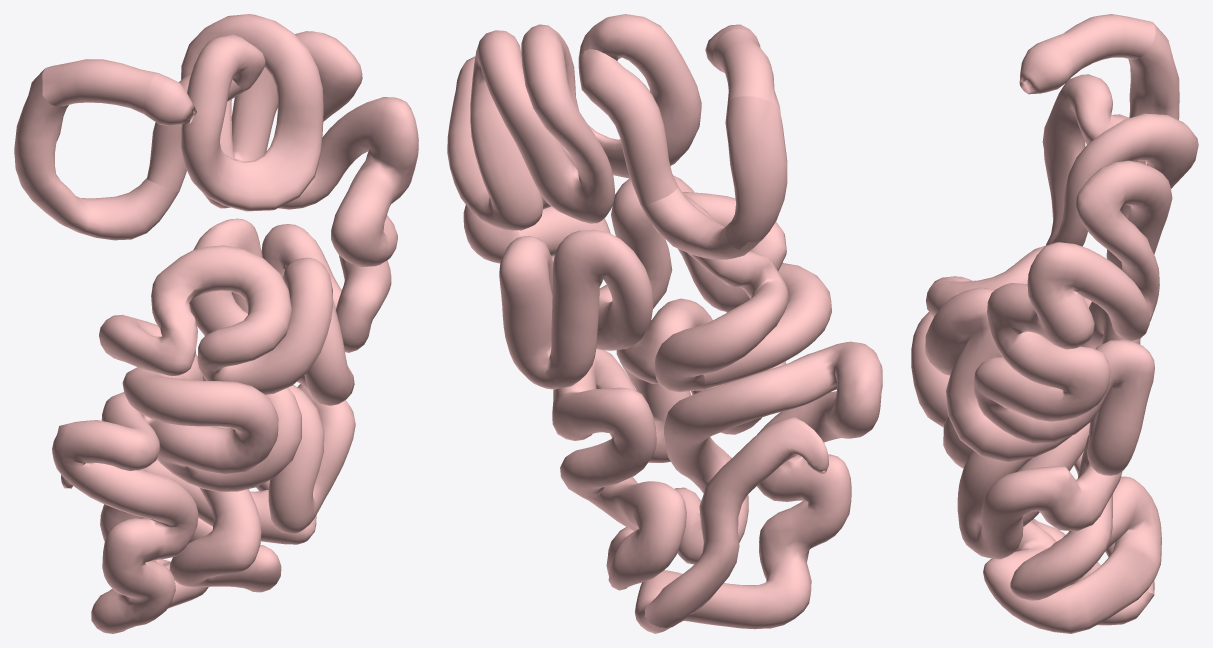
The model's file is intestine.glb.
3 views of the same model, side by side, from view 1: azimuth 30°, elevation 25°; view 2: azimuth 150°, elevation 25°; view 3: azimuth 270°, elevation 25° (orthographic). The views are drawn at different scales.
Visible parts, largest first — view 1: VH_M_jejunum, VH_M_ileum, VH_M_duodenum_horizonal, VH_M_duodenum_superior, VH_M_duodenum_descending, VH_M_duodenum_ascending, VH_M_duodenal_ampulla, VH_M_ileum_terminal; view 2: VH_M_jejunum, VH_M_ileum, VH_M_ileum_terminal, VH_M_duodenum_descending, VH_M_duodenum_ascending, VH_M_duodenum_horizonal, VH_M_duodenum_superior; view 3: VH_M_jejunum, VH_M_ileum, VH_M_duodenum_superior, VH_M_duodenum_descending, VH_M_duodenal_ampulla.
Boxes of the visible parts, left/top/right/bottom form: VH_M_jejunum: left=99, top=14, right=418, bottom=405; VH_M_ileum: left=52, top=367, right=355, bottom=633; VH_M_duodenum_horizonal: left=33, top=178, right=178, bottom=240; VH_M_duodenum_superior: left=42, top=59, right=157, bottom=113; VH_M_duodenum_descending: left=14, top=69, right=70, bottom=202; VH_M_duodenum_ascending: left=147, top=73, right=246, bottom=191; VH_M_duodenal_ampulla: left=143, top=73, right=196, bottom=125; VH_M_ileum_terminal: left=61, top=469, right=157, bottom=561; VH_M_jejunum: left=447, top=14, right=788, bottom=392; VH_M_ileum: left=552, top=263, right=882, bottom=633; VH_M_ileum_terminal: left=644, top=417, right=828, bottom=627; VH_M_duodenum_descending: left=725, top=96, right=787, bottom=249; VH_M_duodenum_ascending: left=578, top=49, right=678, bottom=205; VH_M_duodenum_horizonal: left=641, top=187, right=762, bottom=259; VH_M_duodenum_superior: left=713, top=29, right=779, bottom=105; VH_M_jejunum: left=925, top=74, right=1198, bottom=475; VH_M_ileum: left=911, top=312, right=1161, bottom=633; VH_M_duodenum_superior: left=1052, top=14, right=1155, bottom=77; VH_M_duodenum_descending: left=1128, top=23, right=1179, bottom=119; VH_M_duodenal_ampulla: left=1019, top=38, right=1074, bottom=94.
Bounding box in the file's own units: 0.188 × 0.2654 × 0.1222.
